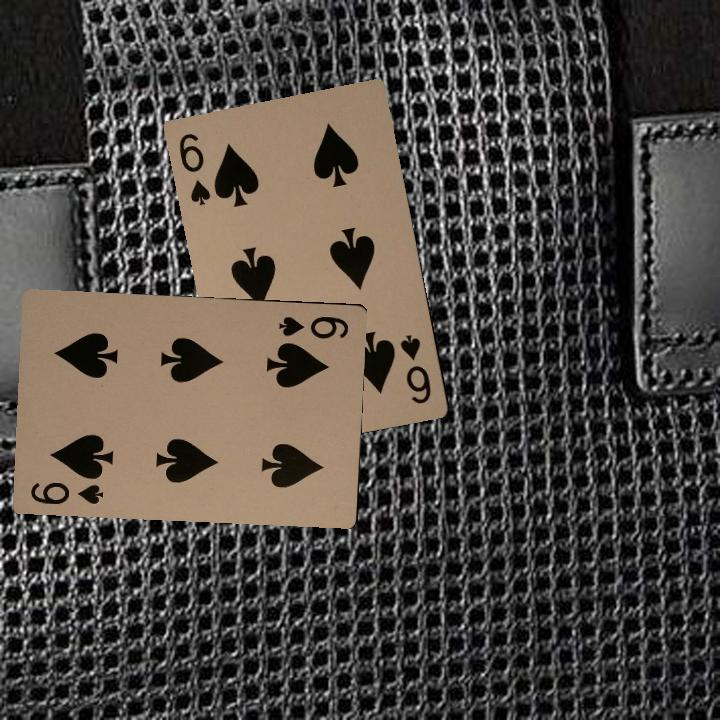6s: (175, 129, 214, 208), (396, 330, 434, 407), (26, 477, 106, 508), (274, 312, 351, 342)
